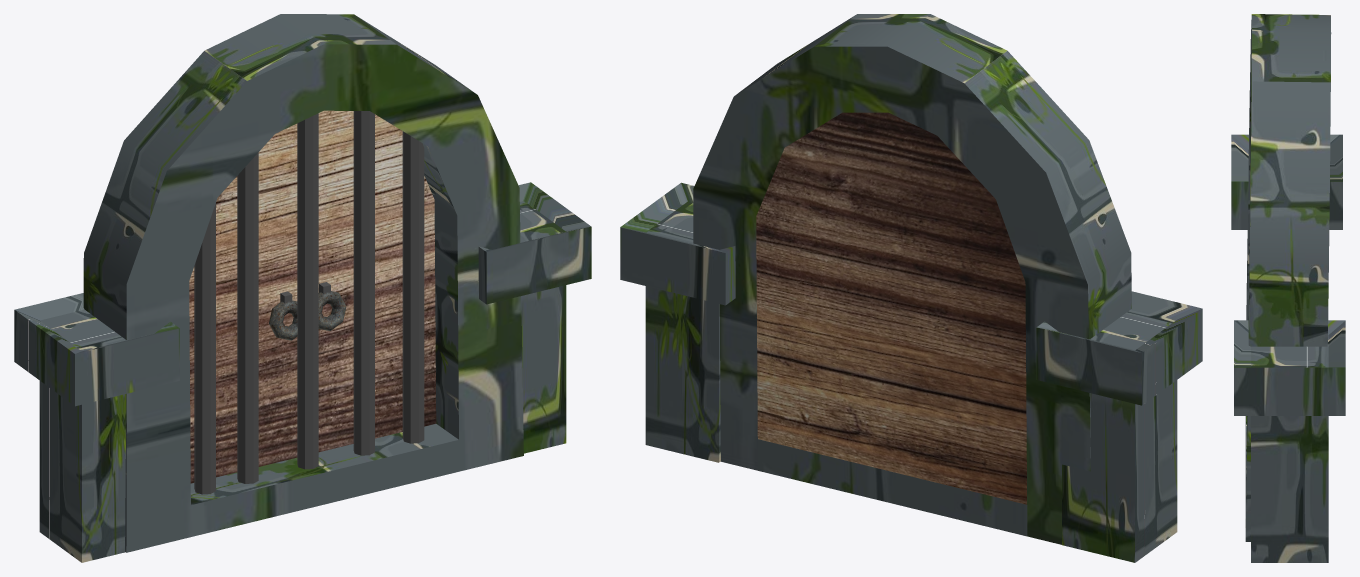
File: End_Door.fbx
3 renders of one model, left to right at view 1: azimuth 30°, elevation 25°; view 2: azimuth 150°, elevation 25°; view 3: azimuth 270°, elevation 25°, orthographic. The views are drawn at different scales.
Parts seen in each view (by area): view 1: pCube1, pCube4, pCube6, pCylinder3, pCylinder4, pCylinder2, pCylinder5, pCylinder1, pTorus1, pTorus2; view 2: pCube1, pCube4, pCube6; view 3: pCube1, pCube6, pCube4.
Part boxes in pixels (x1=…): pCube1: x1=83, y1=14, x2=523, y2=552; pCube4: x1=14, y1=293, x2=179, y2=562; pCube6: x1=478, y1=182, x2=591, y2=453; pCylinder3: x1=297, y1=113, x2=318, y2=469; pCylinder4: x1=353, y1=111, x2=374, y2=455; pCylinder2: x1=237, y1=152, x2=258, y2=483; pCylinder5: x1=402, y1=131, x2=424, y2=443; pCylinder1: x1=194, y1=203, x2=215, y2=494; pTorus1: x1=269, y1=300, x2=297, y2=340; pTorus2: x1=318, y1=291, x2=346, y2=331; pCube1: x1=693, y1=14, x2=1131, y2=544; pCube4: x1=1036, y1=291, x2=1202, y2=562; pCube6: x1=620, y1=182, x2=735, y2=462; pCube1: x1=1245, y1=14, x2=1331, y2=541; pCube6: x1=1234, y1=320, x2=1345, y2=562; pCube4: x1=1231, y1=134, x2=1342, y2=229.
Size of the model in its own units: 7.1 by 6 by 1.47.
5 materials, 4 textured.
